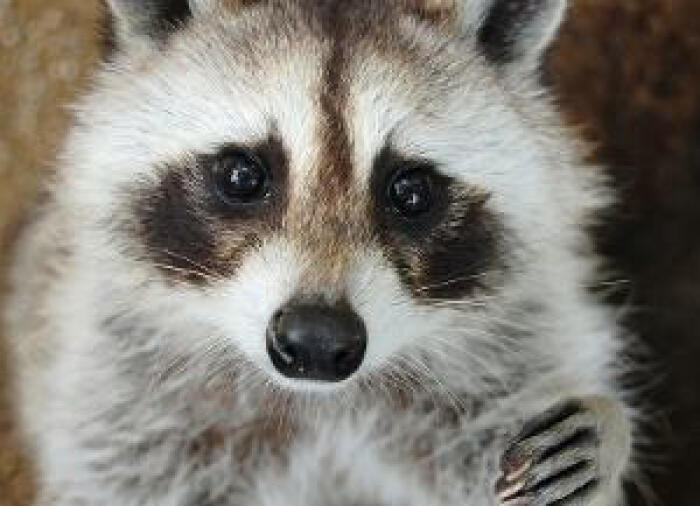raccoon: (10, 1, 646, 505)
